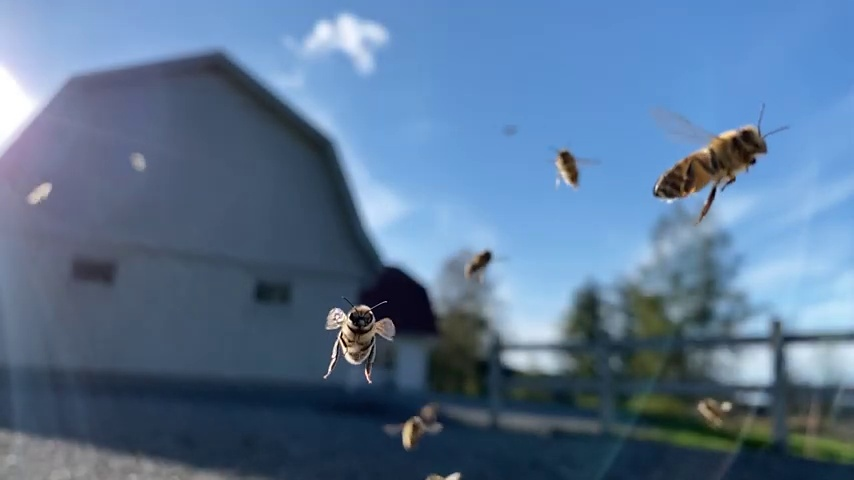insect: (645, 102, 795, 216), (318, 296, 397, 379), (545, 148, 604, 191), (385, 406, 438, 453), (460, 246, 499, 288)
